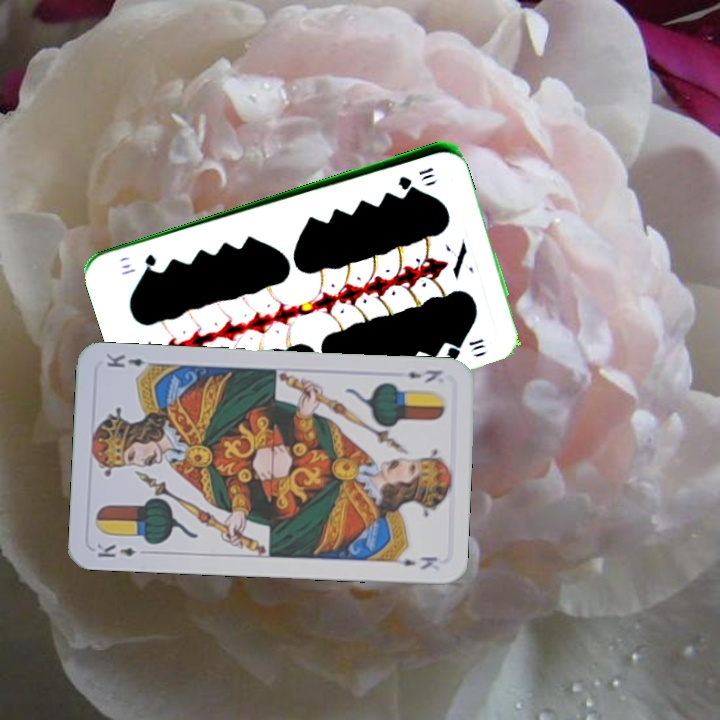EK: (93, 540, 139, 561), (404, 365, 445, 385)
G10: (394, 163, 437, 189)
